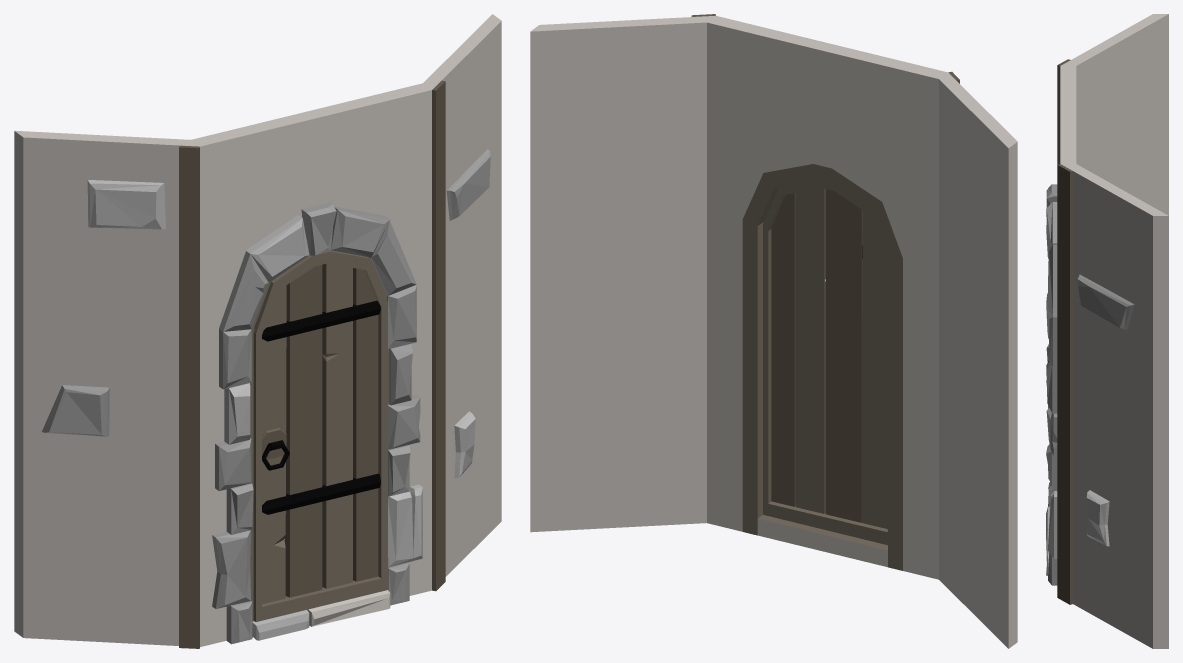
Rendered from _BALKON_04_1.fbx.
3 renders of one model, left to right at view 1: azimuth 30°, elevation 25°; view 2: azimuth 150°, elevation 25°; view 3: azimuth 270°, elevation 25°, orthographic. The views are drawn at different scales.
Visible parts, largest first — view 1: BALKON_04_1; view 2: BALKON_04_1; view 3: BALKON_04_1.
Boxes of the visible parts, left/top/right/bottom form: BALKON_04_1: left=14, top=14, right=501, bottom=648; BALKON_04_1: left=530, top=14, right=1017, bottom=648; BALKON_04_1: left=1046, top=14, right=1168, bottom=648.
Size of the model in its own units: 300 by 300 by 77.15.
